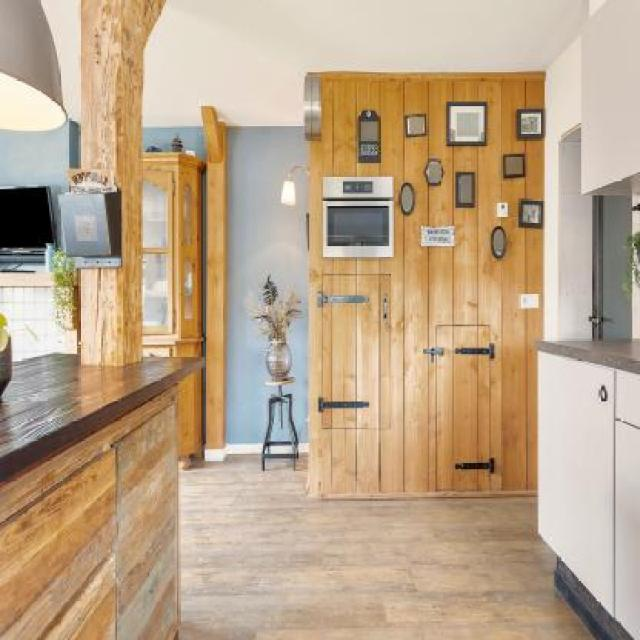floor: (179, 450, 602, 640)
